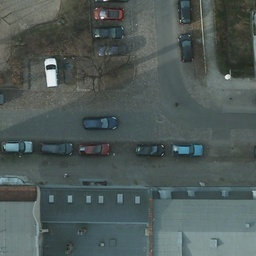car: (81, 116, 120, 132), (176, 32, 194, 64), (170, 143, 206, 159), (43, 57, 60, 90), (3, 138, 33, 154), (63, 57, 77, 90), (41, 142, 72, 155), (135, 144, 164, 156), (79, 143, 108, 155), (93, 26, 121, 38), (178, 1, 192, 24), (92, 8, 123, 18), (95, 43, 126, 53), (1, 91, 5, 106)
